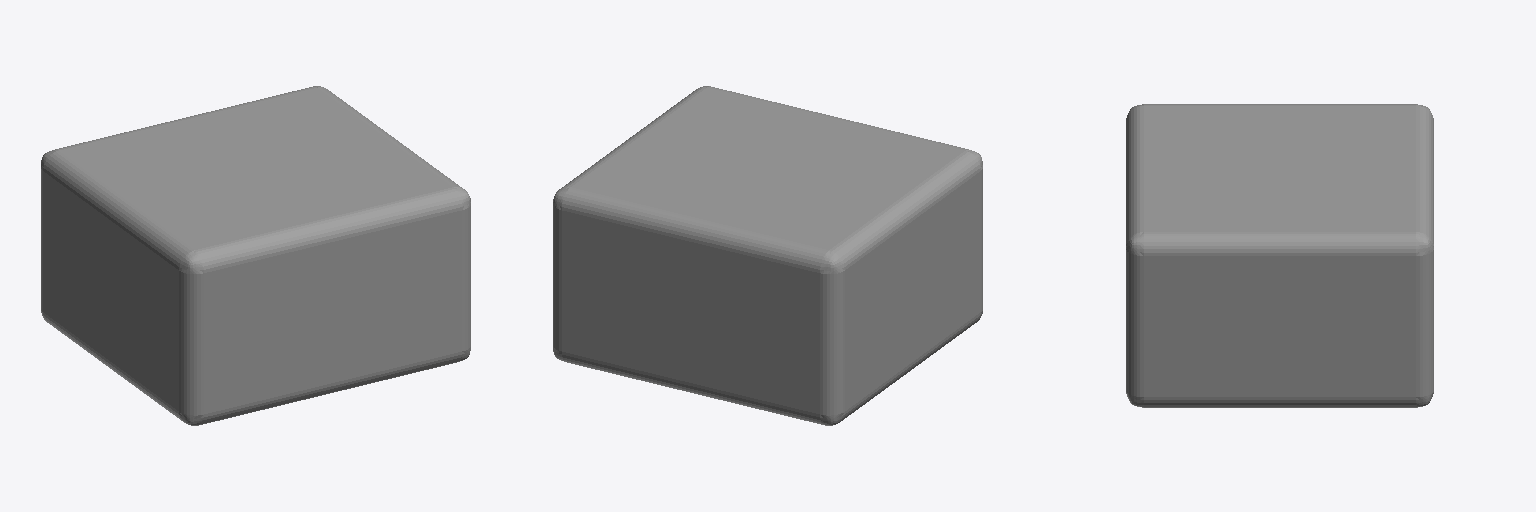
File: Room.obj
The picture shows the model from 3 angles: view 1: azimuth 30°, elevation 25°; view 2: azimuth 150°, elevation 25°; view 3: azimuth 270°, elevation 25°; orthographic projection.
Visible parts, largest first — view 1: Cube; view 2: Cube; view 3: Cube.
Part boxes in pixels (bbox=[...]): Cube: bbox=[41, 86, 470, 425]; Cube: bbox=[553, 86, 982, 425]; Cube: bbox=[1126, 104, 1433, 407].
Bounding box in the file's own units: 3.04 × 1.75 × 2.8.